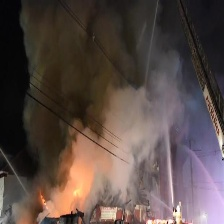fire: (70, 181, 85, 197)
smoke: (18, 2, 187, 217)
